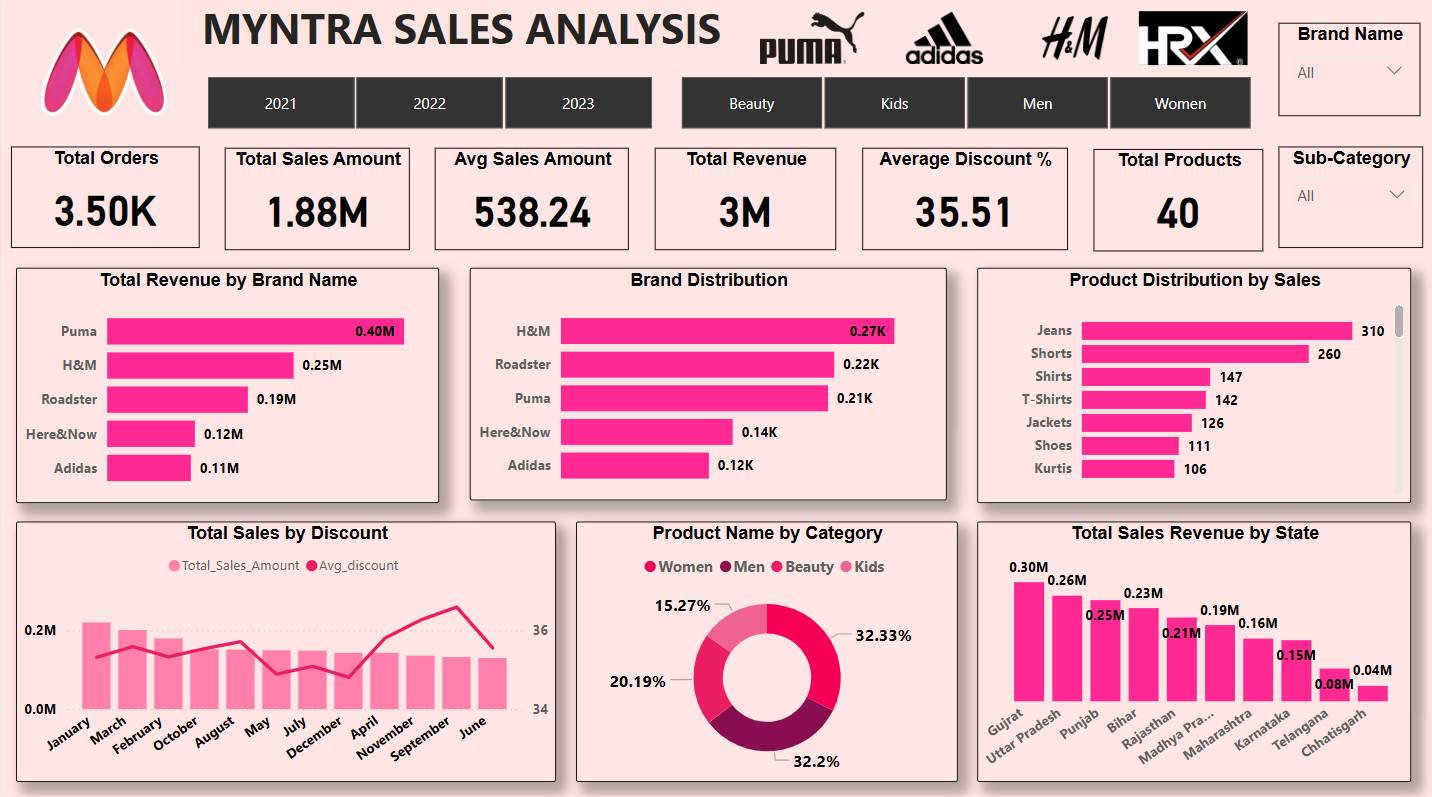

Layout of this report page (visuals, bound fields, positions):
{"tool":"powerbi","page":{"name":"Dashboard 1","canvas":[1280,720],"ordinal":0},"visuals":[{"type":"textbox","box":[159.5,0,501.8,65],"z":0},{"type":"slicer","fields":{"Values":["DateTable.Year"]},"box":[158.3,66.3,445.4,60.1],"z":1000},{"type":"slicer","title":"Brand Name ","fields":{"Values":["dim_products.Brand Name"]},"box":[1137.4,25.8,126.4,83.4],"z":2000},{"type":"slicer","title":"Sub-Category","fields":{"Values":["dim_products.Sub-category"]},"box":[1137.4,136.2,128.8,90.8],"z":3000},{"type":"card","title":"Total Orders","fields":{"Values":["'Measures'.Total_Orders"]},"box":[8.6,136.2,168.1,90.8],"z":4000},{"type":"card","title":"Total Sales Amount","fields":{"Values":["'Measures'.Total_Sales_Amount"]},"box":[199.3,137.1,164.5,90.9],"z":5000},{"type":"card","title":"Avg Sales Amount","fields":{"Values":["'Measures'.Avg_Sales_Amount"]},"box":[386.5,137.1,173.1,90.9],"z":6000},{"type":"card","title":"Total Revenue","fields":{"Values":["'Measures'.Revenue"]},"box":[582.3,137.1,161.6,90.9],"z":7000},{"type":"card","title":"Average Discount %","fields":{"Values":["'Measures'.Avg_discount"]},"box":[766.5,137.1,183.2,90.9],"z":8000},{"type":"card","title":"Total Products","fields":{"Values":["Count(dim_products.Product Name)"]},"box":[972.4,138.5,151.5,90.9],"z":9000},{"type":"donutChart","title":"Product Name by Category","fields":{"Y":["CountNonNull(dim_products.Product Name)"],"Category":["dim_products.Category"]},"box":[512.3,469.9,339.9,231.9],"z":10000},{"type":"barChart","title":"Total Revenue by Brand Name","fields":{"Y":["'Measures'.Revenue"],"Category":["dim_products.Brand Name"]},"box":[13.5,244.2,376.7,209.8],"z":11000},{"type":"clusteredBarChart","title":"Brand Distribution","fields":{"Category":["dim_products.Brand Name"],"Y":["CountNonNull(dim_products.Brand Name)"]},"box":[417.8,244.2,424.5,207.4],"z":12000},{"type":"lineClusteredColumnComboChart","title":"Total Sales by Discount","fields":{"Category":["DateTable.Month_Name"],"Y":["'Measures'.Total_Sales_Amount"],"Y2":["'Measures'.Avg_discount"]},"box":[13.5,469.9,481,231.9],"z":13000},{"type":"clusteredColumnChart","title":"Total Sales Revenue by State","fields":{"Category":["dim_customers.State"],"Y":["'Measures'.Total_Sales_Amount"]},"box":[869.9,469.9,386.5,231.9],"z":14000},{"type":"slicer","fields":{"Values":["dim_products.Category"]},"box":[580.4,66.3,557.1,60.1],"z":15000},{"type":"barChart","title":"Product Distribution by Sales ","fields":{"Category":["dim_products.Product Name"],"Y":["CountNonNull(dim_products.Product Name)"]},"box":[869.9,244.2,386.5,209.8],"z":16000},{"type":"image","box":[896.9,12.6,117.8,54],"z":17000},{"type":"image","box":[776.7,11.3,126.4,56.4],"z":18000},{"type":"image","box":[662.6,11.3,120.2,56.4],"z":19000},{"type":"image","box":[1008.6,8.6,106.7,61.4],"z":20000},{"type":"image","box":[29.4,18.4,127.6,103.1],"z":21000}]}

Visuals, with their boxes in screenshot pixels (x1, y1, x2, y2), scaled from the page's 1280x720 canvas onto the 1432x797 screenshot:
textbox: 178/0/740/72
slicer - DateTable.Year: 177/73/675/140
"Brand Name " slicer: 1272/29/1414/121
"Sub-Category" slicer: 1272/151/1417/251
"Total Orders" card: 10/151/198/251
"Total Sales Amount" card: 223/152/407/252
"Avg Sales Amount" card: 432/152/626/252
"Total Revenue" card: 651/152/832/252
"Average Discount %" card: 858/152/1062/252
"Total Products" card: 1088/153/1257/254
"Product Name by Category" donutChart: 573/520/953/777
"Total Revenue by Brand Name" barChart: 15/270/437/503
"Brand Distribution" clusteredBarChart: 467/270/942/500
"Total Sales by Discount" lineClusteredColumnComboChart: 15/520/553/777
"Total Sales Revenue by State" clusteredColumnChart: 973/520/1406/777
slicer - dim_products.Category: 649/73/1273/140
"Product Distribution by Sales " barChart: 973/270/1406/503
image: 1003/14/1135/74
image: 869/13/1010/75
image: 741/13/876/75
image: 1128/10/1248/77
image: 33/20/176/134
